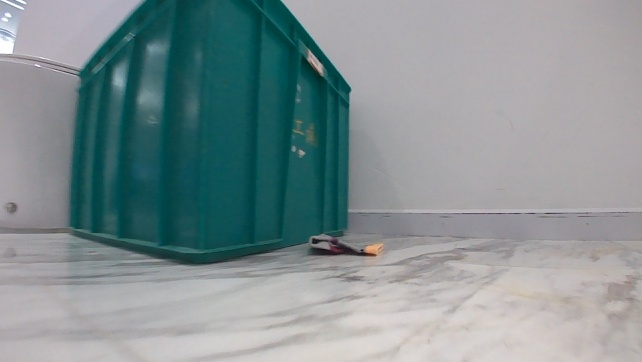socks: (309, 231, 385, 258)
toilet: (0, 48, 84, 233)
